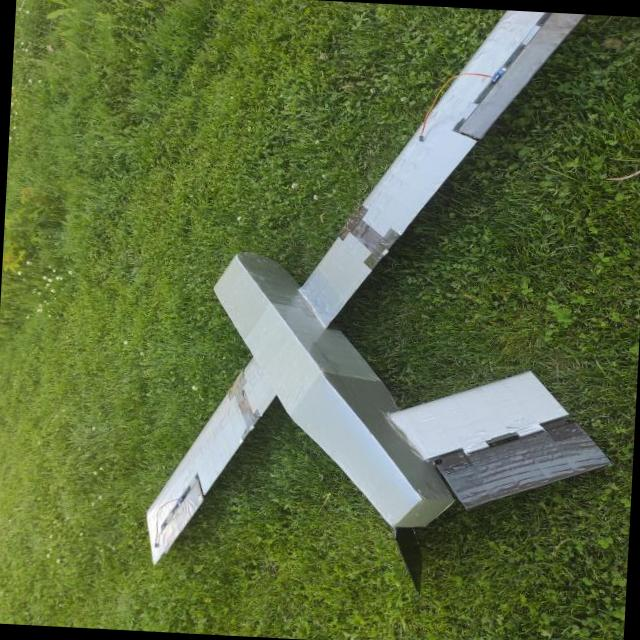UAV: (58, 0, 640, 588)
